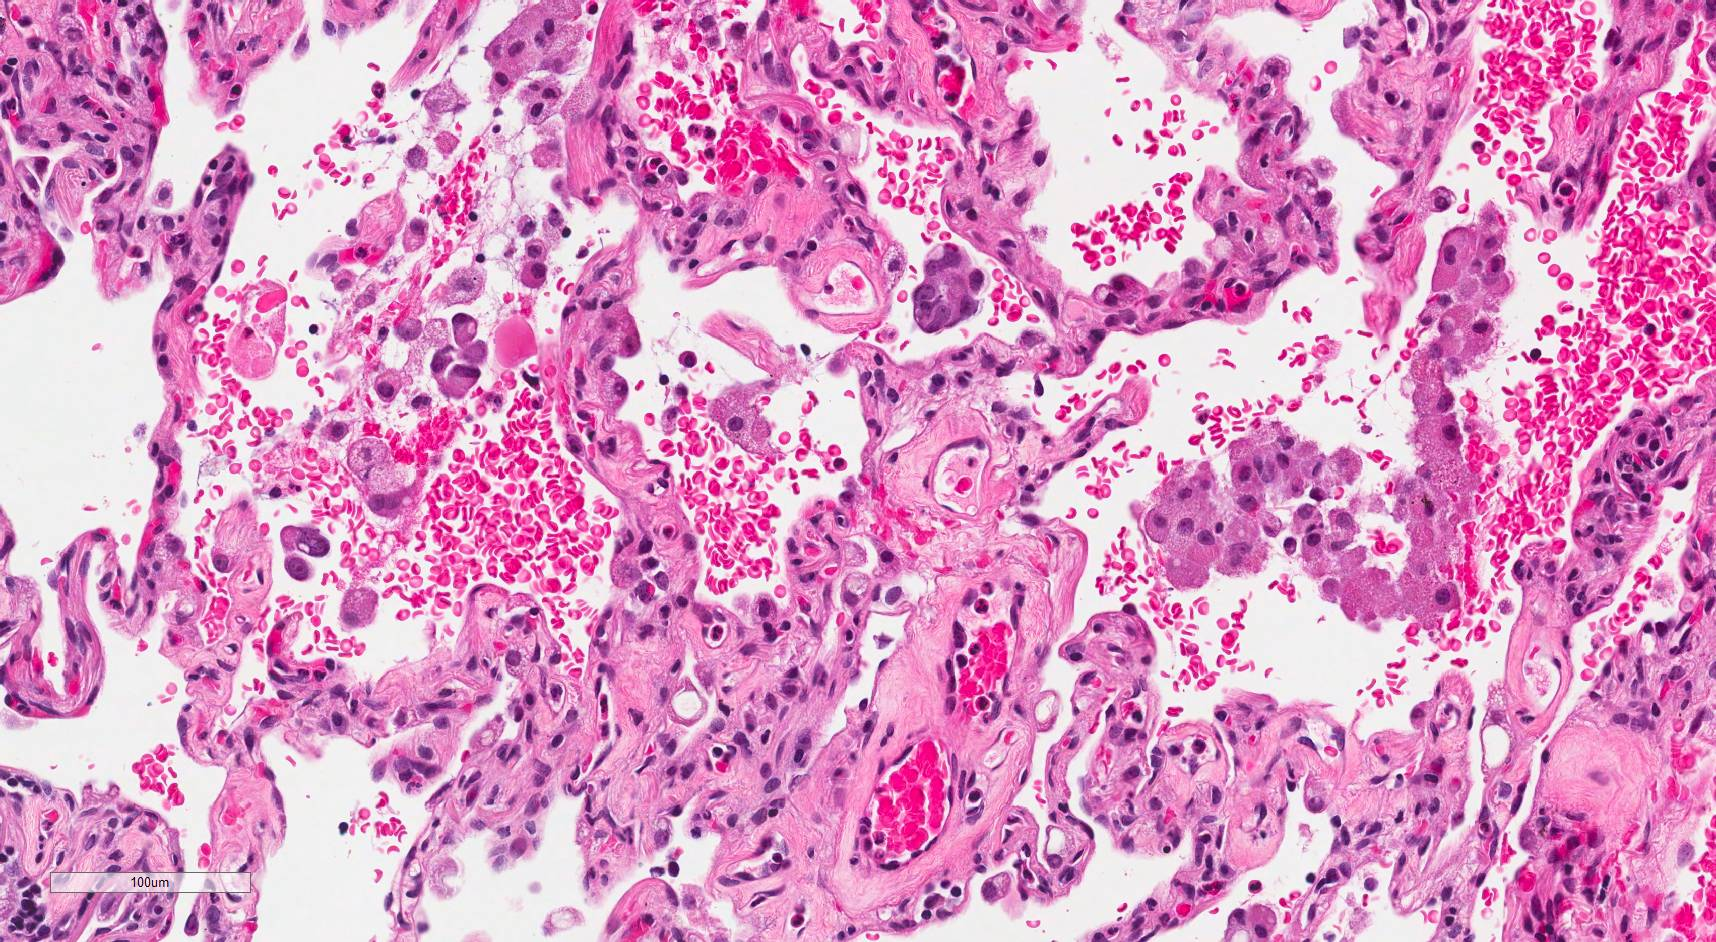stas: (912, 240, 990, 337), (425, 306, 490, 406), (273, 521, 336, 584)
